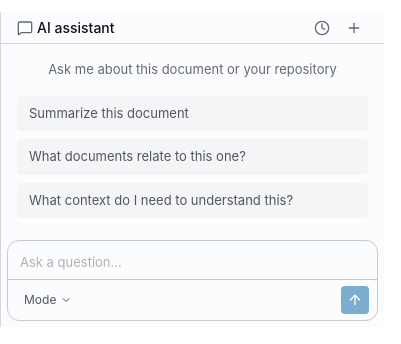
Scenario: AiChatPanel routing › renders SessionHistoryView when navigating to history
The image size is (401, 344).
Click the button named "Session history".
click(322, 28)  # box [308,14,336,42]
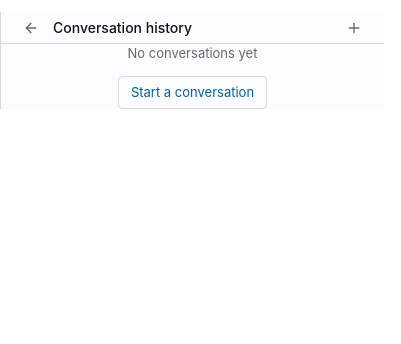
Expected: the text "Conversation history" is shown, [53,17,192,38]
